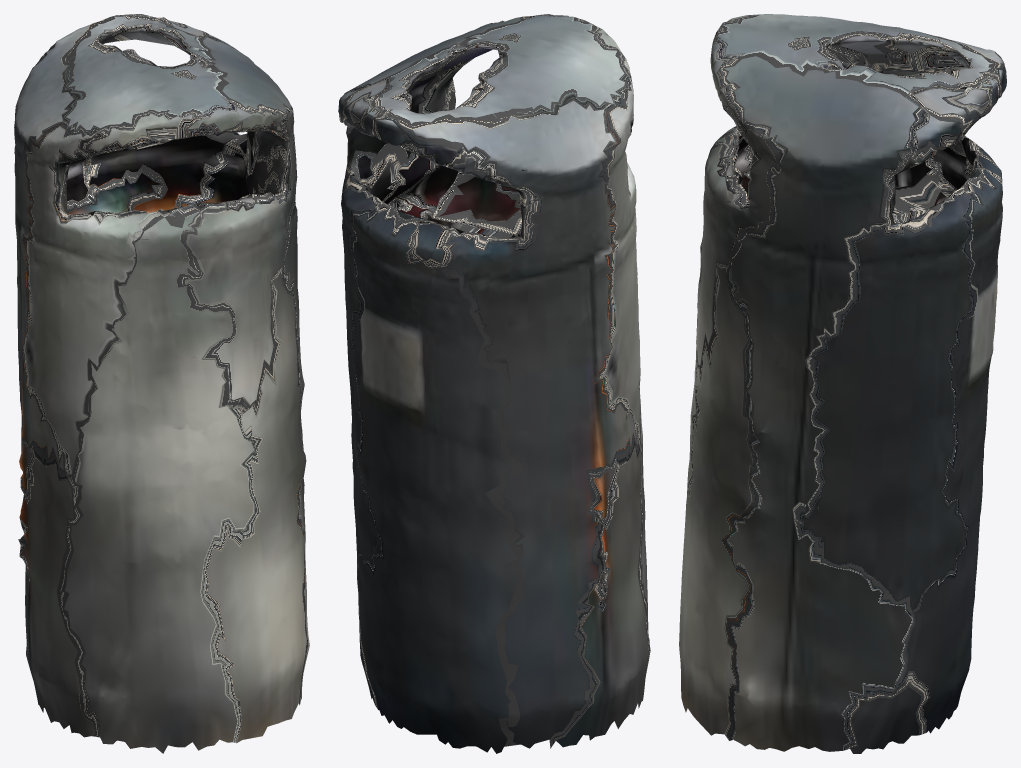
The model's file is caneca_envigado.glb.
The picture shows the model from 3 angles, left to right: view 1: azimuth 30°, elevation 25°; view 2: azimuth 150°, elevation 25°; view 3: azimuth 270°, elevation 25°; orthographic projection. The views are drawn at different scales.
Visible parts, largest first — view 1: caneca; view 2: caneca; view 3: caneca.
Boxes of the visible parts, left/top/right/bottom form: caneca: left=14, top=14, right=309, bottom=753; caneca: left=338, top=14, right=650, bottom=753; caneca: left=679, top=14, right=1006, bottom=753.
Bounding box in the file's own units: 0.4161 × 1 × 0.4486.
Materials: 1 (1 with a texture image).
